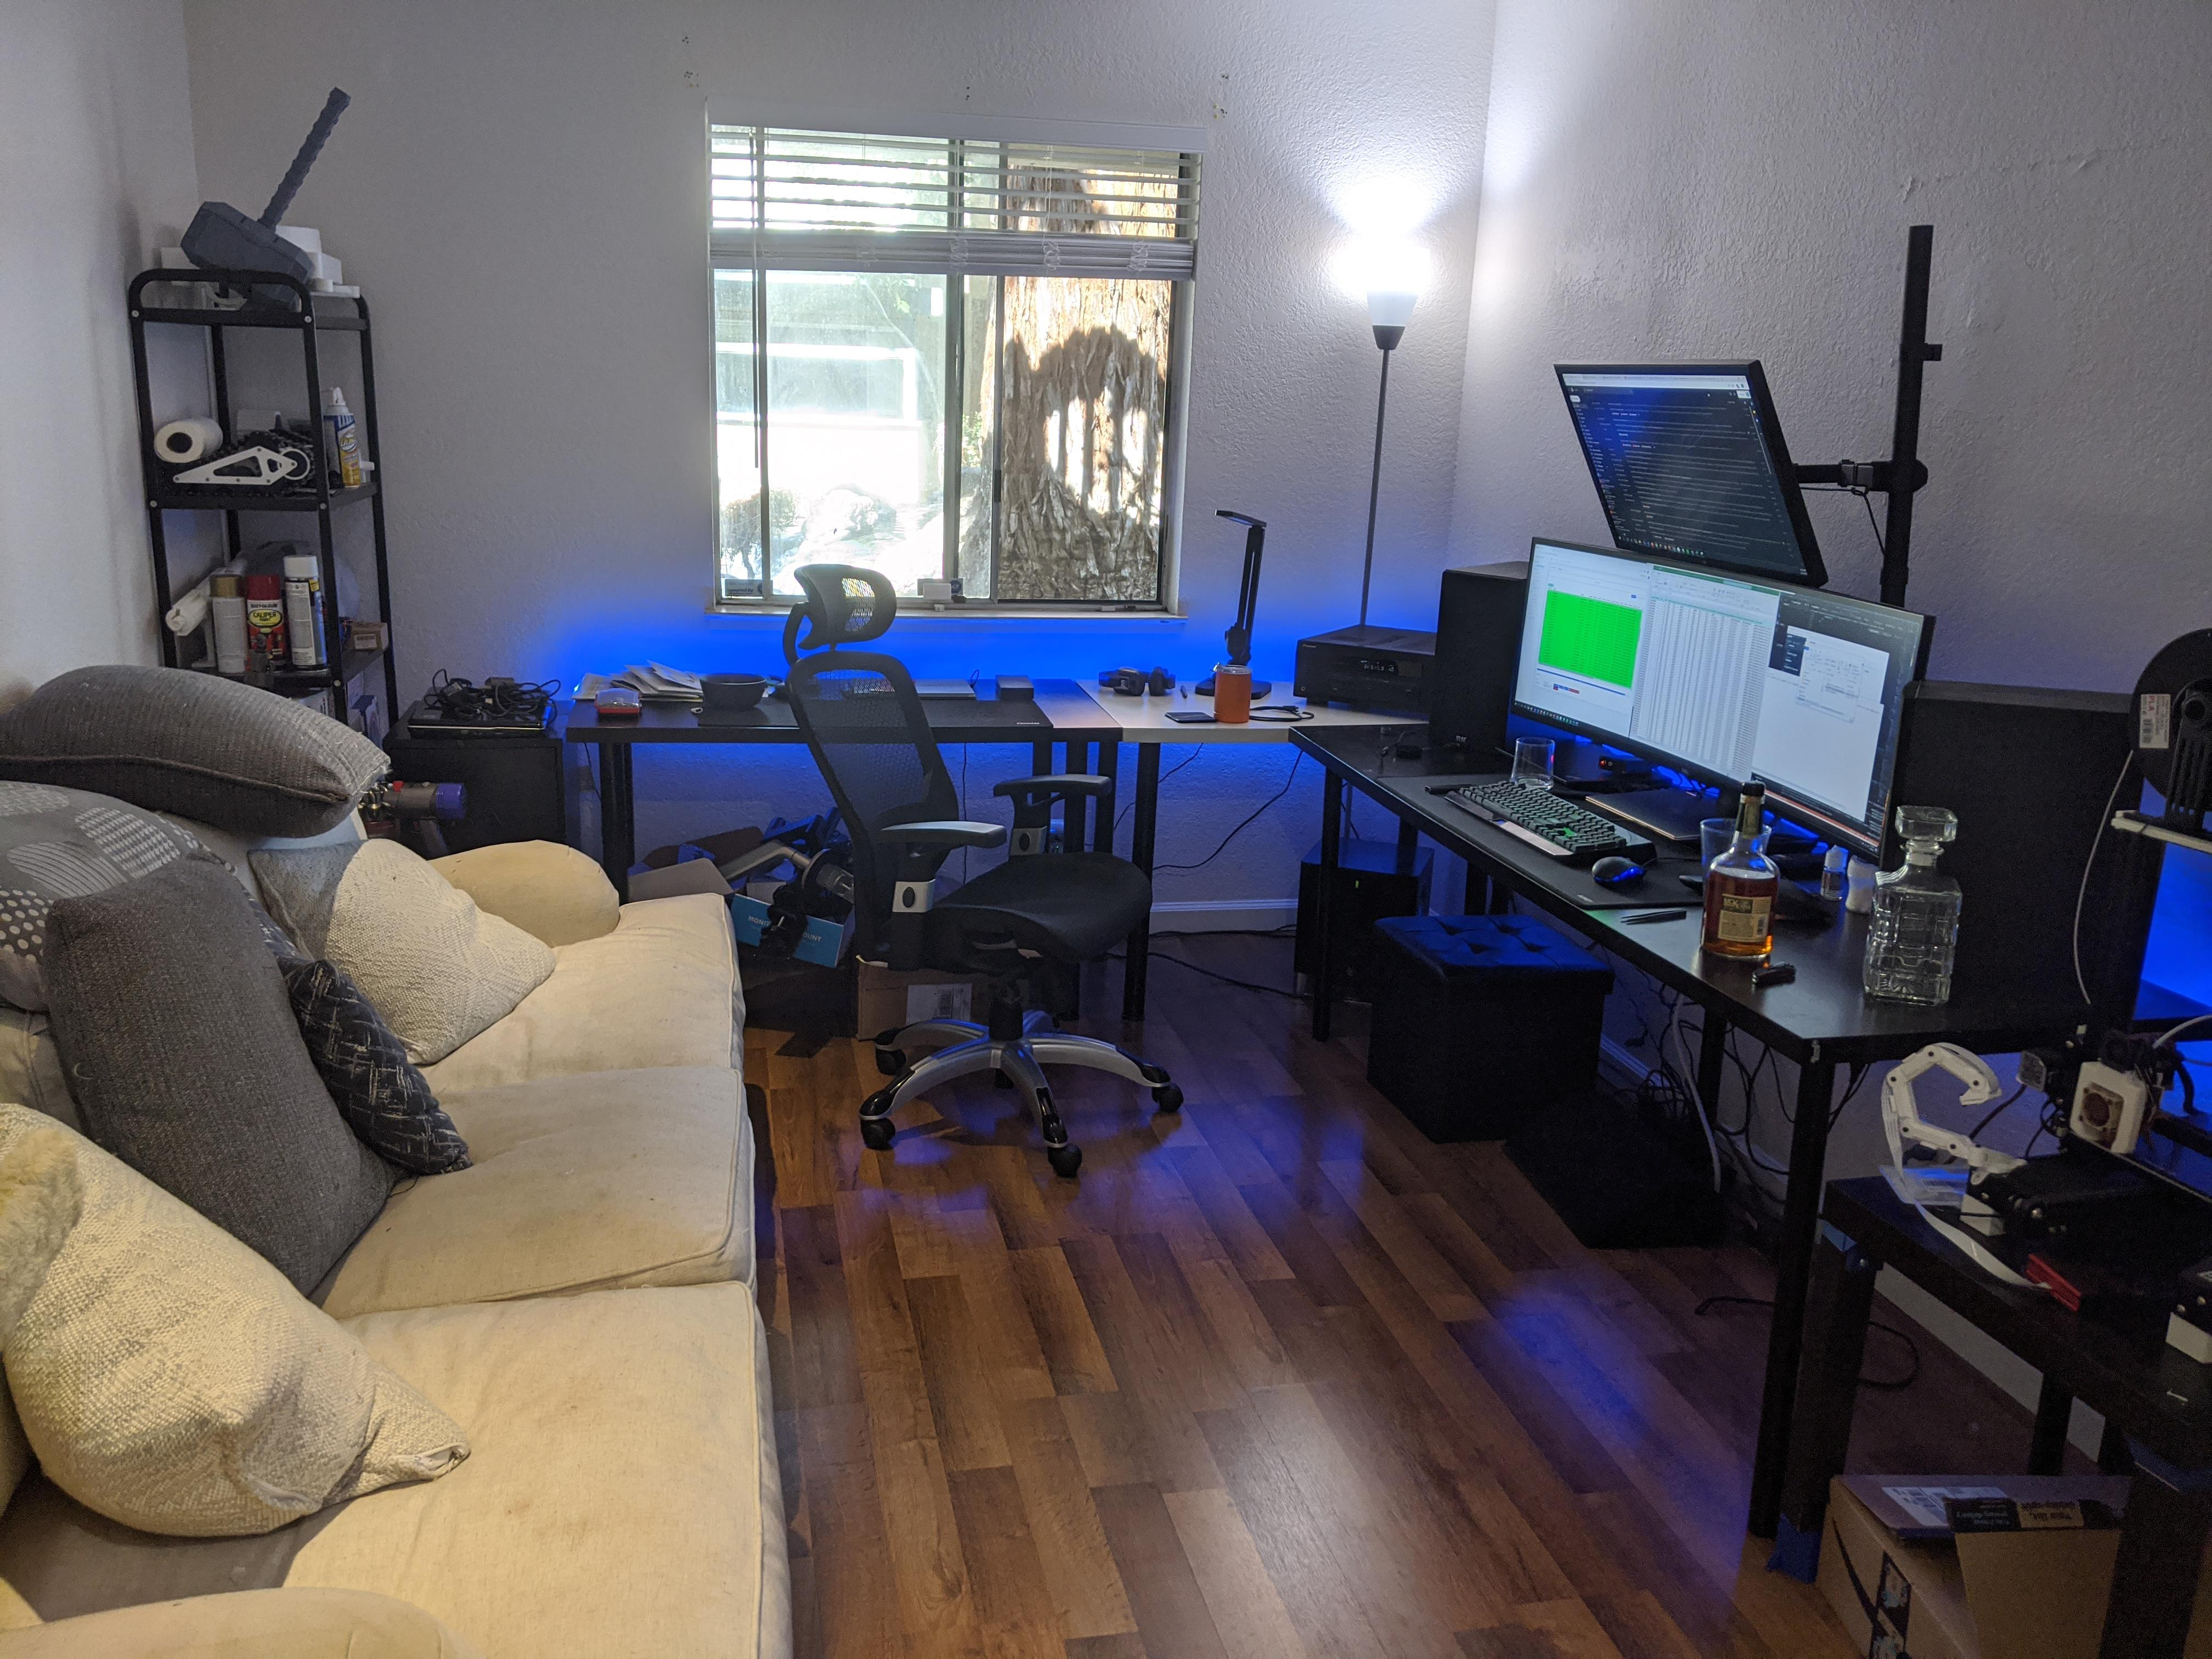Chair (Generic): (768, 565, 1224, 1136)
Cup: (1700, 814, 1764, 868), (1505, 735, 1555, 795)
Desk (Generic): (1312, 716, 2120, 1049), (563, 694, 1120, 746), (1104, 685, 1432, 734)
External Speakers (Subwoofers): (1855, 673, 2212, 953), (1428, 556, 1575, 751)
Footrest: (1507, 1080, 1726, 1249)
Headphones: (1094, 662, 1176, 697)
Keyboard (Generic): (1447, 767, 1656, 866)
Lamp (Desk): (1202, 495, 1270, 704)
Lamp (Floor): (1352, 272, 1404, 631)
Laptop (Generic): (1493, 732, 1672, 789)
Laptop (OSX): (1594, 784, 1738, 833)
Monitor (Landscape): (1524, 538, 1905, 842), (1550, 359, 1832, 591)
Monitor Arm: (1785, 331, 1939, 634)
Mouse (Generic): (1583, 856, 1660, 897)
Mousepad (Gaming): (1367, 742, 1735, 917)
Power Strip: (1625, 1063, 1726, 1168)
